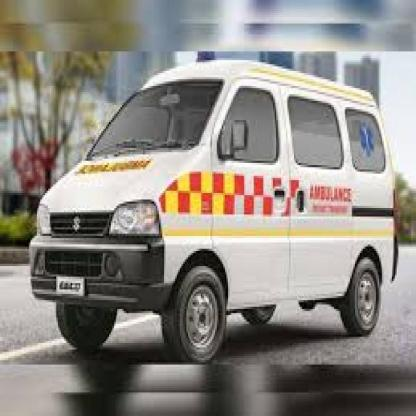priority: (26, 47, 404, 366)
